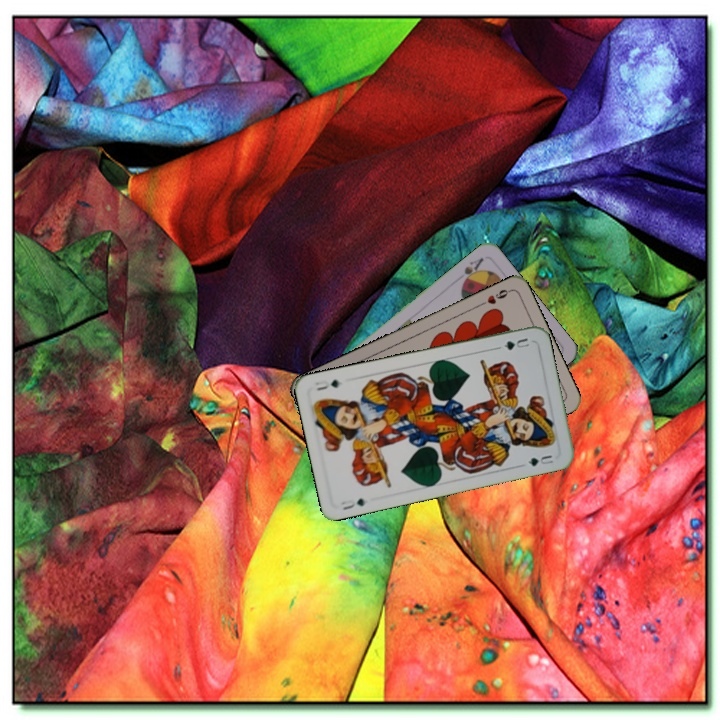GU: (494, 334, 533, 353), (337, 494, 368, 513)
H9: (475, 285, 513, 309)
SA: (453, 253, 486, 288)
